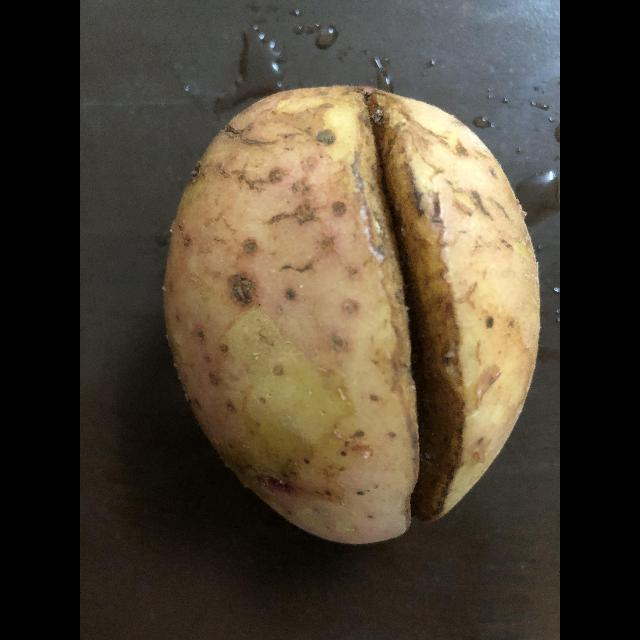Damaged potato: (167, 92, 541, 550)
